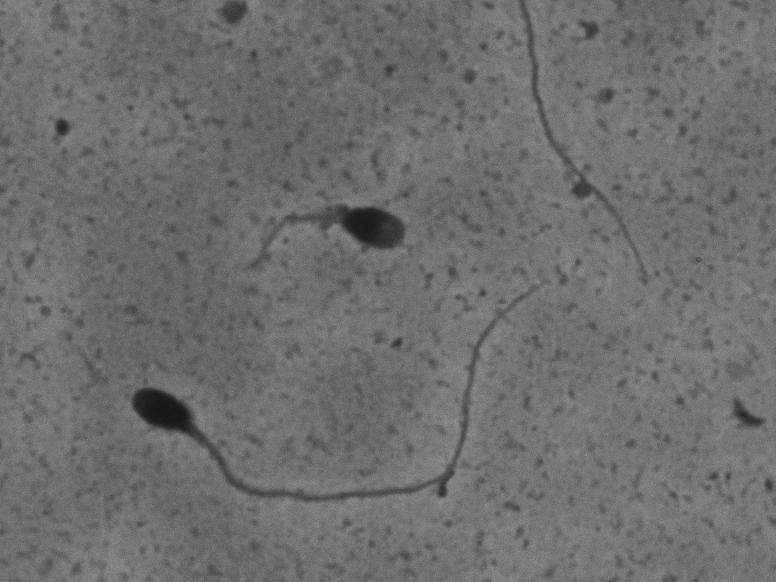Abnormal: (249, 180, 430, 314)
Normal: (117, 250, 589, 510)
